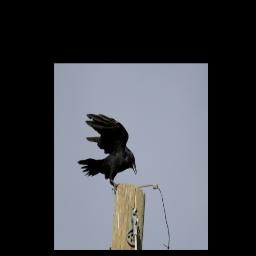Crow: (76, 112, 137, 193)
